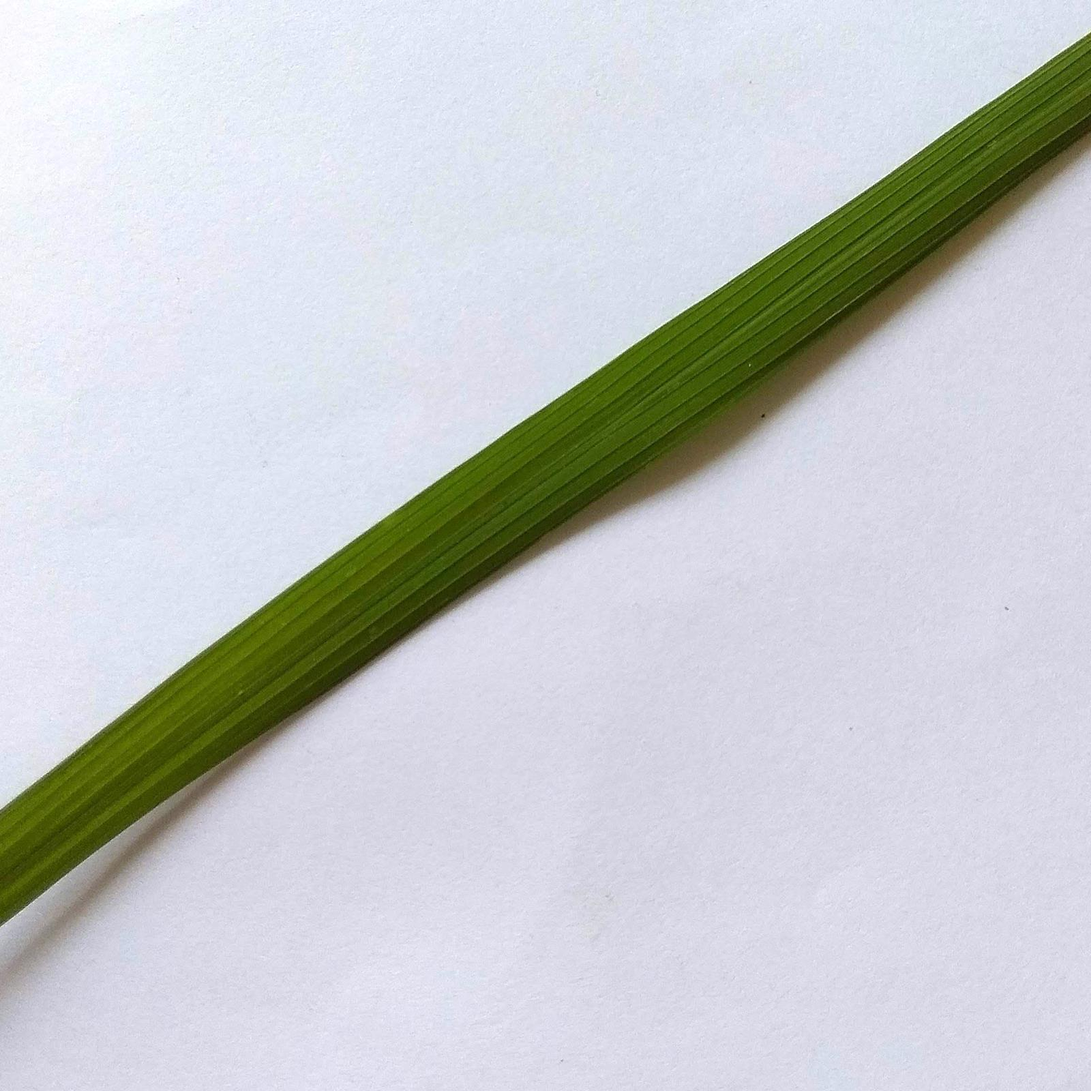Healthy: (0, 35, 1090, 923)
